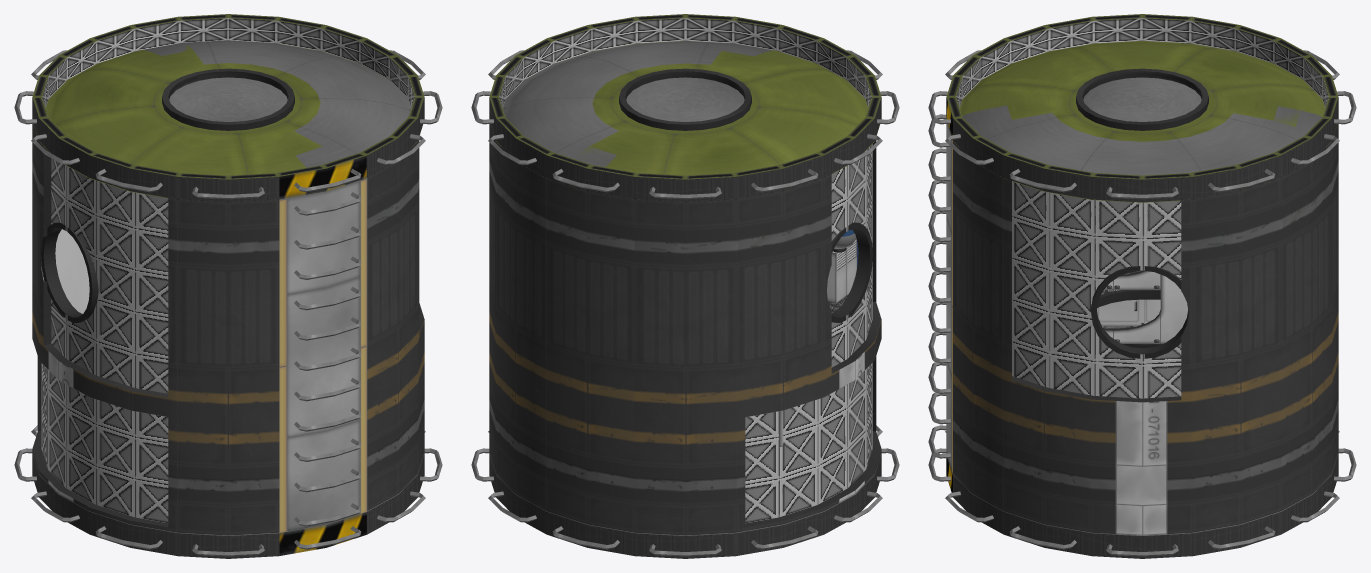
Rendered from MOHSpace.FBX.
3 renders of one model, left to right at view 1: azimuth 30°, elevation 25°; view 2: azimuth 150°, elevation 25°; view 3: azimuth 270°, elevation 25°, orthographic.
Visible parts, largest first — view 1: Cylinder003, IntMainBody, TankSleeve001, EndCap001, EndCap011, TankSleeve002, CrewPort006, Tube001, Box077; view 2: Cylinder003, TankSleeve001, EndCap001, IntMainBody, EndCap011, TankSleeve002, CrewPort006, Tube001, HVAC002; view 3: Cylinder003, IntMainBody, TankSleeve001, EndCap001, EndCap011, TankSleeve002, CrewPort006, Bulkhead001, Tube002, Pantry, Bulkhead, AccessSleeve.
Part boxes in pixels (bbox=[...]): Cylinder003: bbox=[32, 124, 424, 535]; IntMainBody: bbox=[41, 158, 168, 522]; TankSleeve001: bbox=[32, 14, 424, 202]; EndCap001: bbox=[36, 43, 423, 202]; EndCap011: bbox=[143, 40, 411, 167]; TankSleeve002: bbox=[32, 454, 424, 558]; CrewPort006: bbox=[162, 68, 294, 130]; Tube001: bbox=[41, 222, 98, 322]; Box077: bbox=[55, 229, 89, 313]; Cylinder003: bbox=[489, 124, 881, 535]; TankSleeve001: bbox=[489, 14, 881, 202]; EndCap001: bbox=[496, 41, 880, 202]; IntMainBody: bbox=[745, 144, 872, 523]; EndCap011: bbox=[502, 41, 772, 167]; TankSleeve002: bbox=[489, 454, 881, 558]; CrewPort006: bbox=[619, 68, 751, 130]; Tube001: bbox=[831, 222, 872, 322]; HVAC002: bbox=[827, 248, 846, 303]; Cylinder003: bbox=[946, 43, 1338, 535]; IntMainBody: bbox=[1012, 181, 1181, 398]; TankSleeve001: bbox=[946, 14, 1338, 202]; EndCap001: bbox=[950, 41, 1331, 202]; EndCap011: bbox=[962, 77, 1322, 175]; TankSleeve002: bbox=[946, 454, 1338, 558]; CrewPort006: bbox=[1076, 68, 1208, 130]; Bulkhead001: bbox=[1104, 275, 1187, 343]; Tube002: bbox=[1091, 266, 1188, 358]; Pantry: bbox=[1097, 299, 1160, 326]; Bulkhead: bbox=[1104, 270, 1160, 289]; AccessSleeve: bbox=[1097, 290, 1161, 348].
Bounding box in the file's own units: 2.05 × 2 × 2.05.
